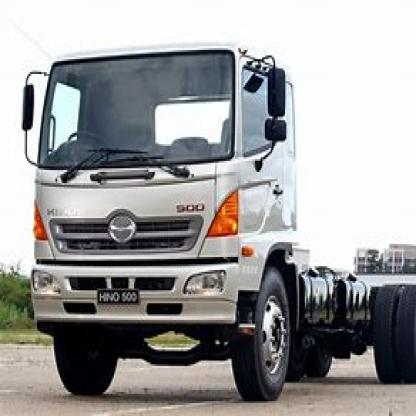dump_truck: (13, 35, 414, 411)
